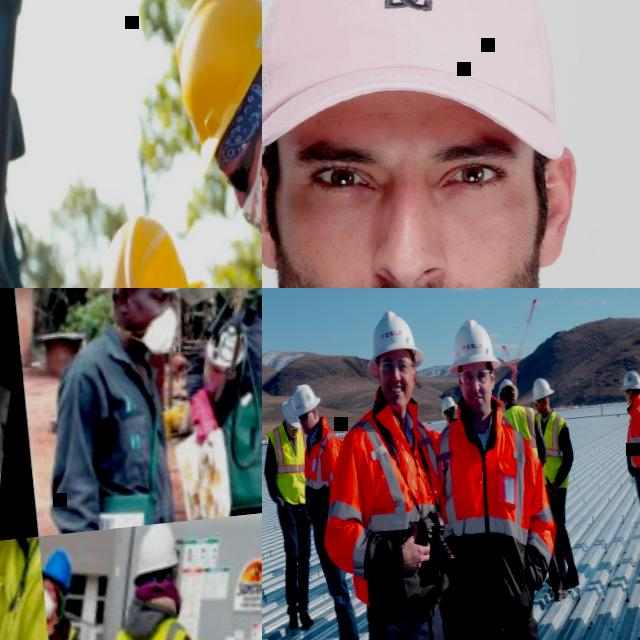Hardhat: (167, 0, 262, 176), (84, 212, 202, 288), (361, 306, 425, 374), (442, 316, 503, 376), (127, 518, 182, 582), (42, 548, 75, 593), (289, 380, 323, 419), (530, 376, 555, 403), (280, 398, 301, 429), (495, 376, 519, 401), (619, 367, 640, 393), (438, 397, 458, 418)
Mask: (230, 115, 262, 254), (136, 305, 183, 358), (45, 591, 58, 620)
NO-Hardhat: (262, 0, 569, 186)
NO-Mask: (382, 380, 415, 410), (465, 384, 494, 416), (300, 420, 317, 437), (536, 403, 548, 416), (288, 429, 298, 439), (626, 393, 633, 404)
NO-Safety Vest: (58, 318, 176, 527), (209, 300, 262, 517), (0, 374, 20, 505)
Person: (262, 0, 640, 288), (298, 303, 482, 640), (417, 309, 584, 640), (19, 288, 201, 531), (163, 0, 262, 288), (0, 200, 262, 288), (164, 288, 262, 520), (286, 380, 371, 640), (56, 519, 217, 640), (492, 374, 568, 601), (262, 396, 327, 632), (527, 373, 588, 591), (38, 546, 96, 640), (615, 368, 640, 580), (0, 329, 21, 515), (437, 394, 459, 424)
Safety Vest: (305, 380, 458, 606), (428, 392, 566, 633), (296, 416, 352, 531), (264, 421, 313, 505), (534, 408, 573, 488), (500, 403, 545, 458), (619, 394, 640, 478)
vehicle: (0, 0, 77, 288)
